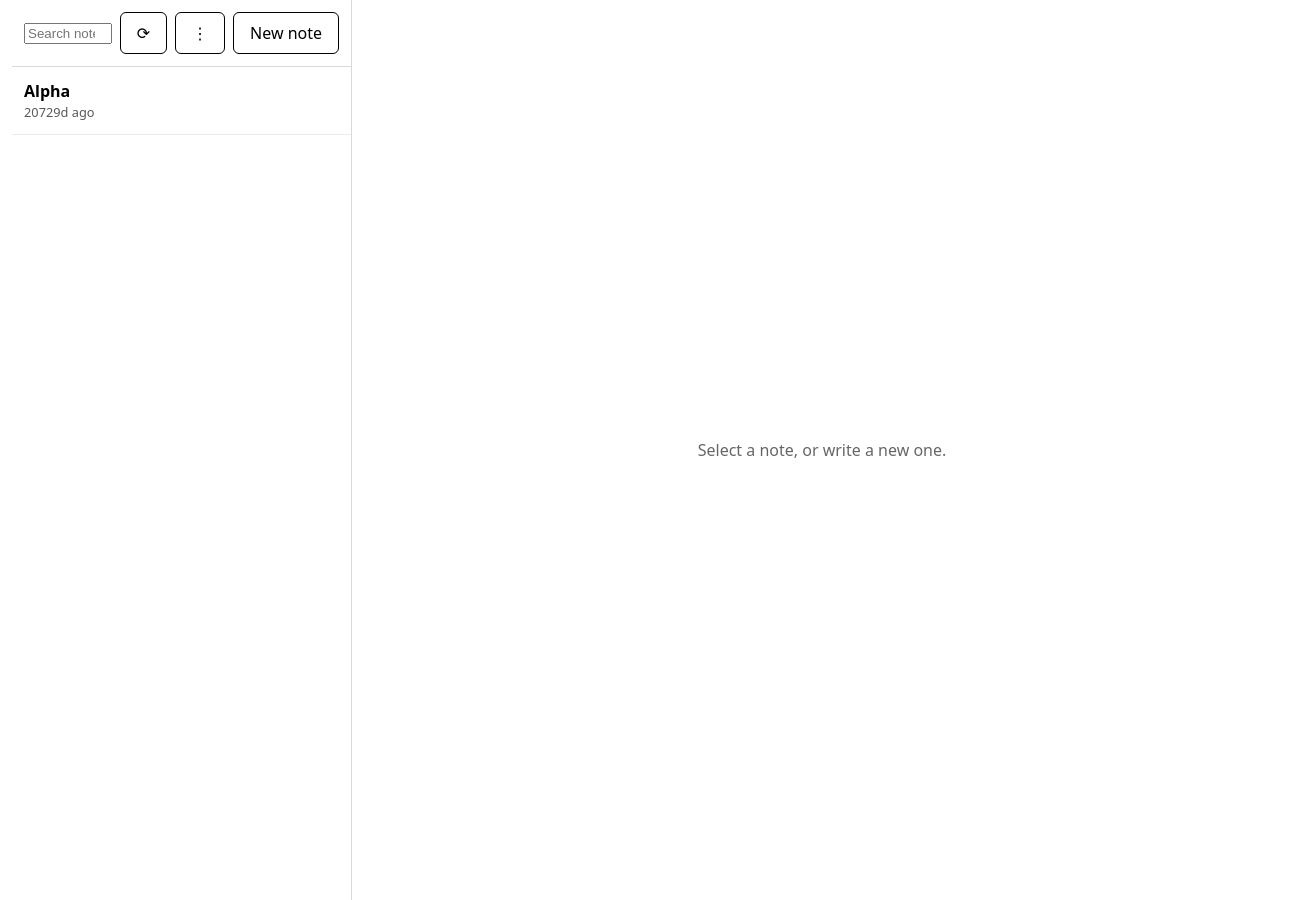
Test case: AppShell — re-seed race, title field › a remote edit to the idle open Note re-seeds it, keeping focus in the Title field
Click the button "Alpha 20729d ago" at (47, 91), box [12, 67, 351, 135]
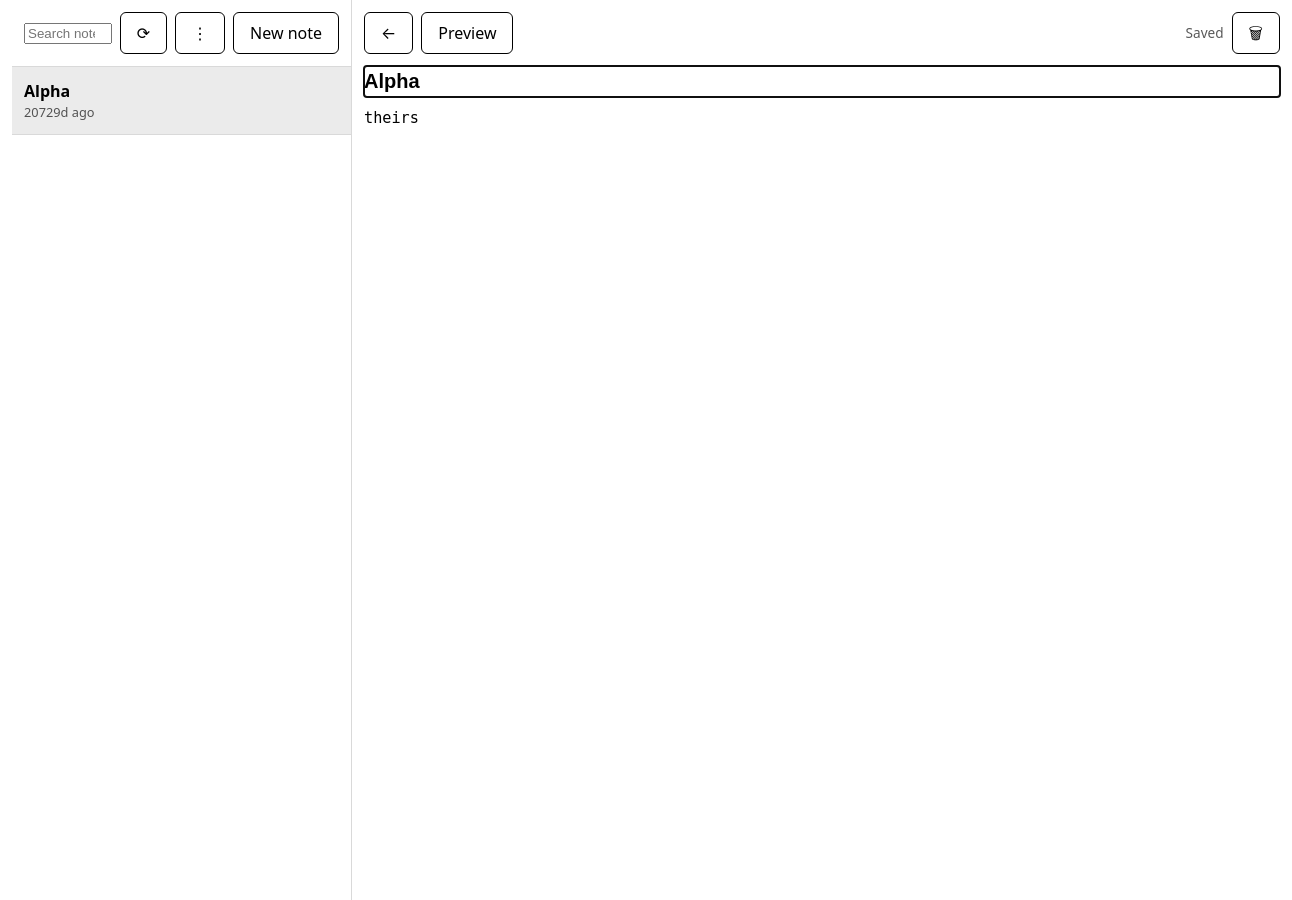
Now the text box named "Note body" holds "theirs"
